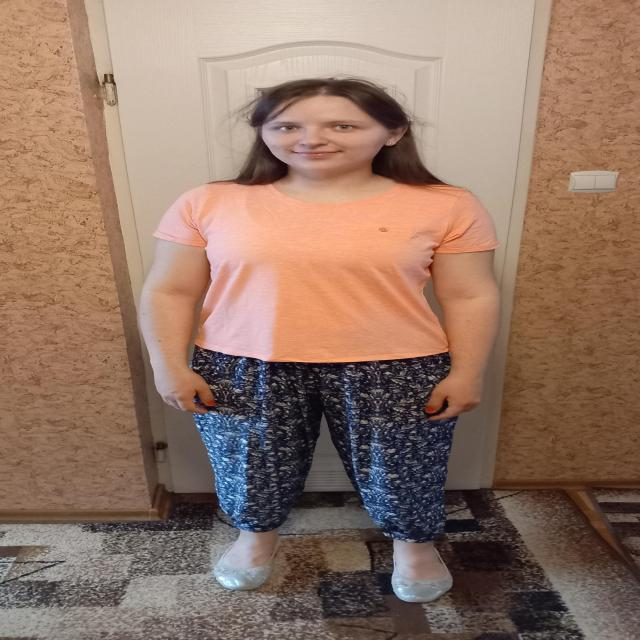Tshirt: (150, 178, 500, 363)
pants: (188, 345, 465, 543)
